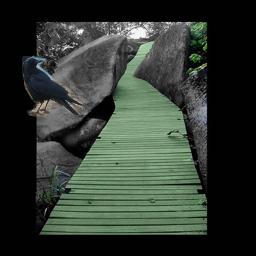Crow: (22, 55, 83, 117)
